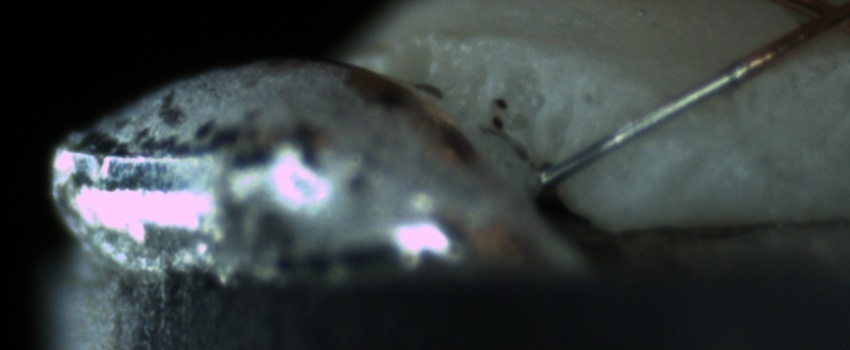CL: (781, 0, 849, 45)
TS: (540, 57, 754, 186)
